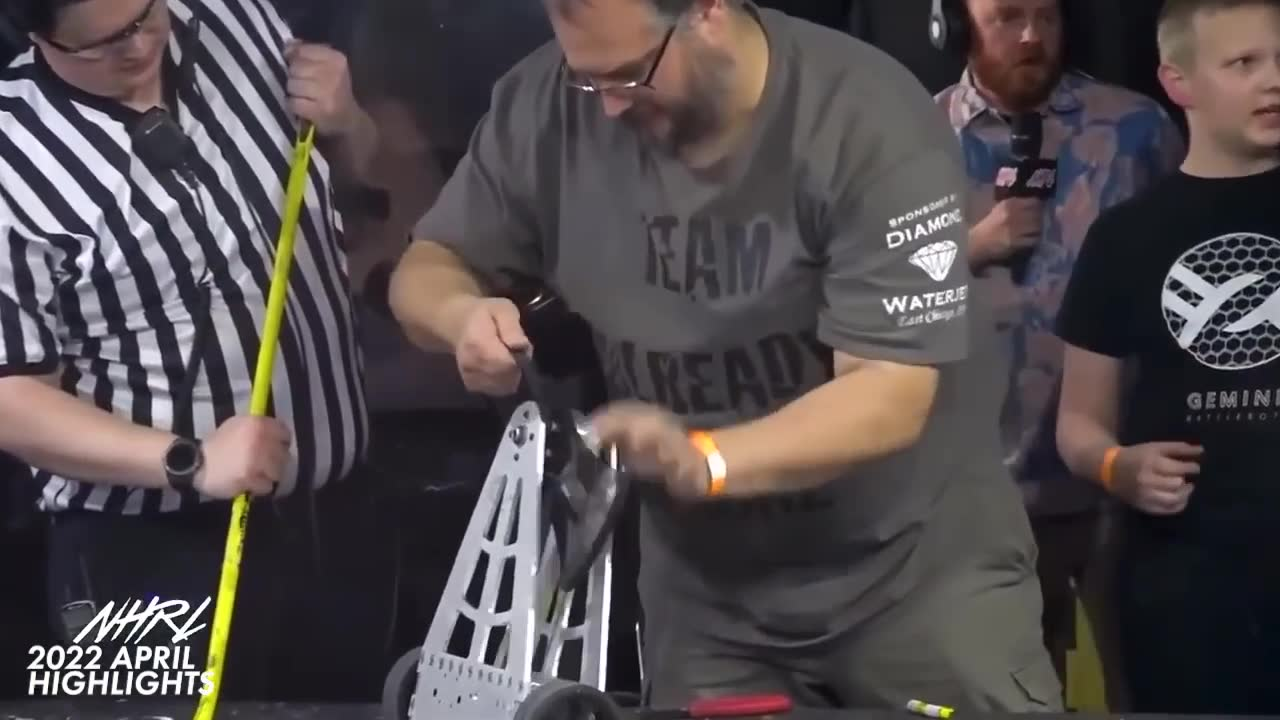combatbot: (379, 290, 650, 719)
